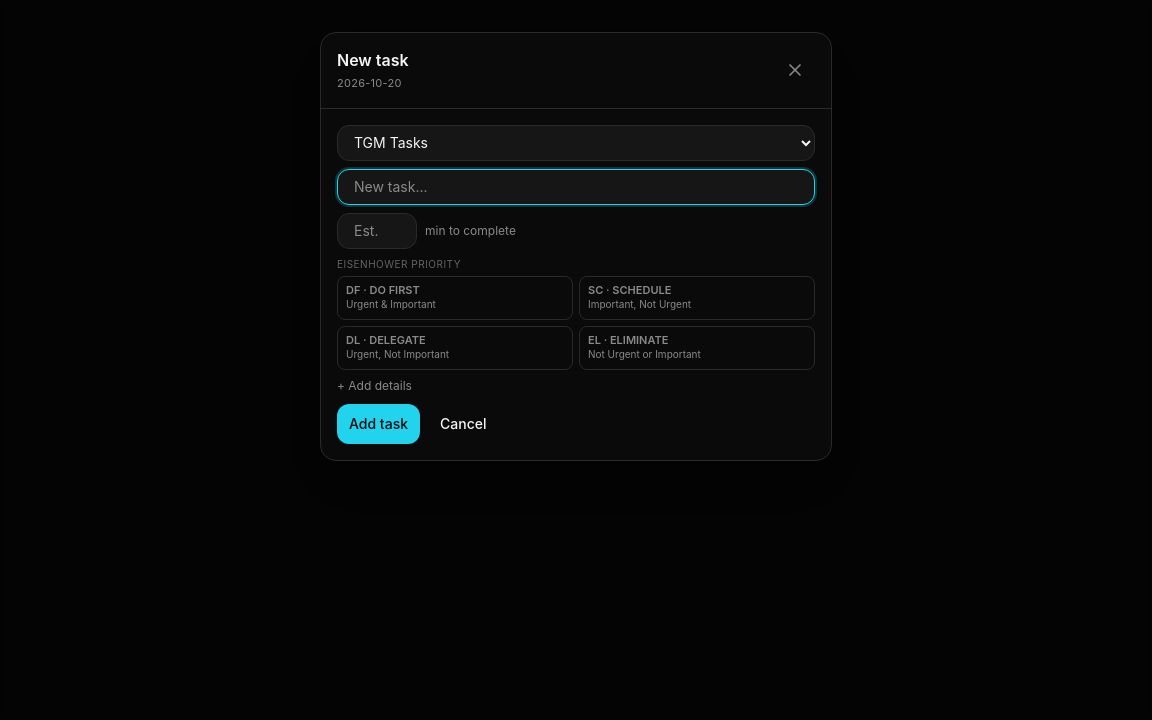
Scenario: NewTaskDialog › writes the task and confirms without closing
The width and height of the screenshot is (1152, 720).
Step 1. Type "Call the glazier" into the field named "Task title" → [576, 186], box [337,168,815,204]
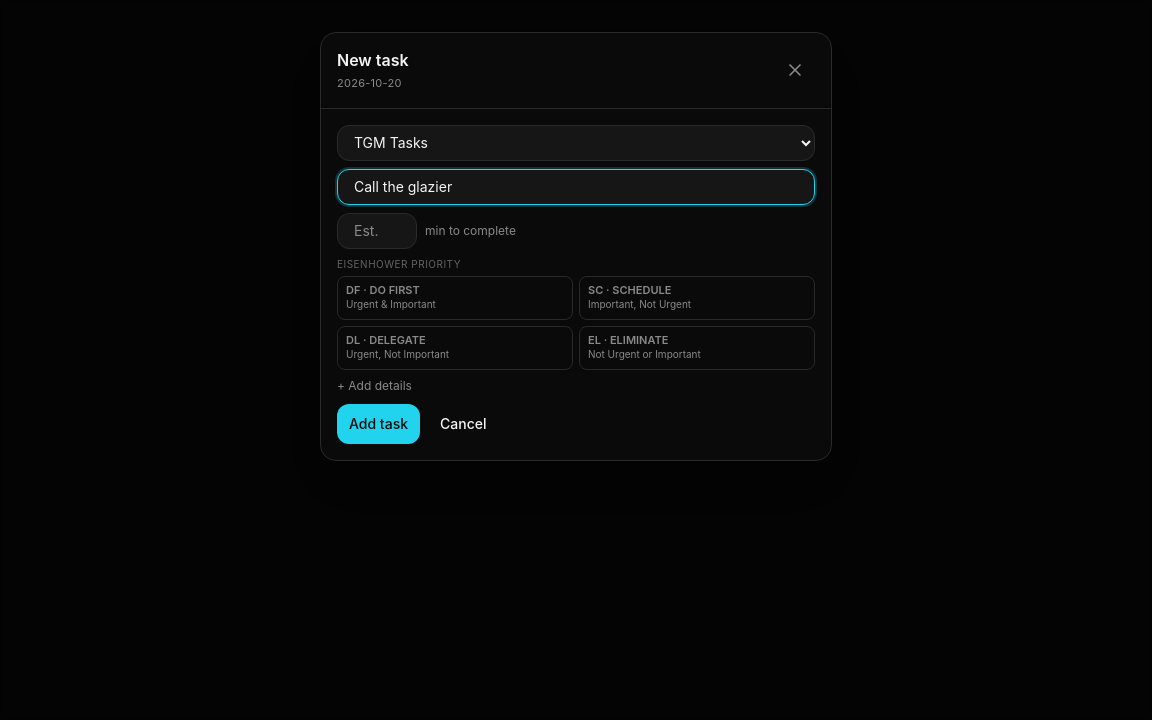
Step 2. Type "15" into the number field named "Time to complete estimate" → [377, 230], box [337,212,417,248]
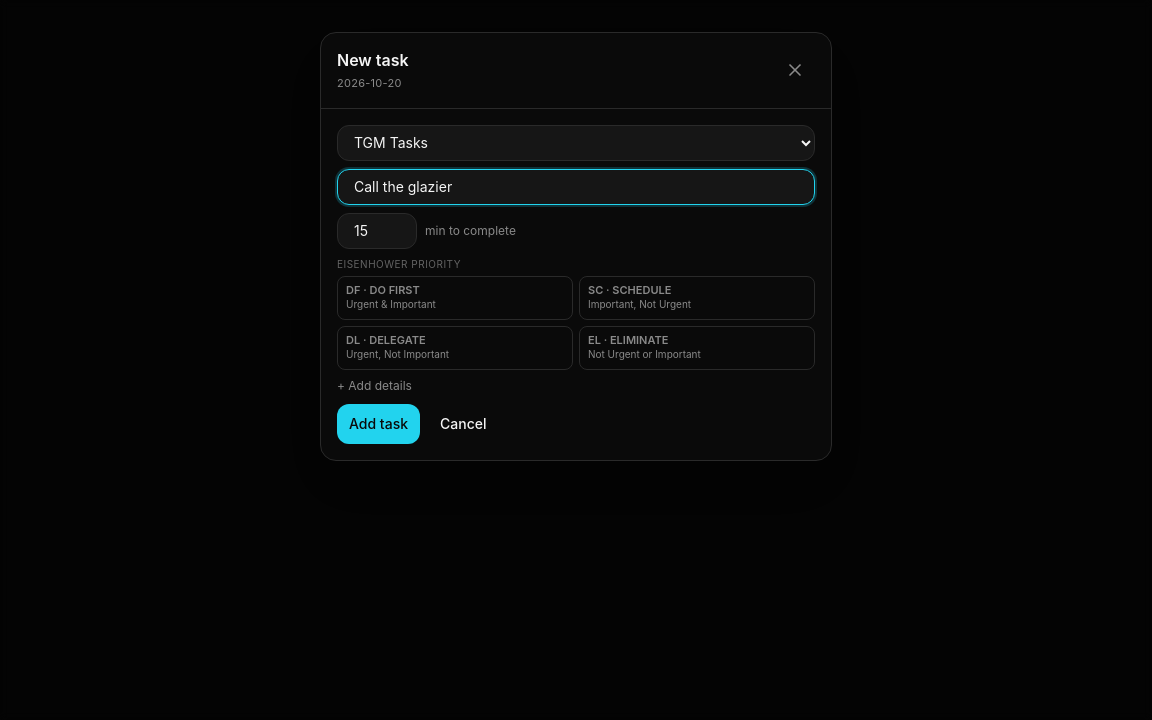
Step 3. Click the button "DF · Do First Urgent & Important" → [455, 298], box [337,276,573,320]
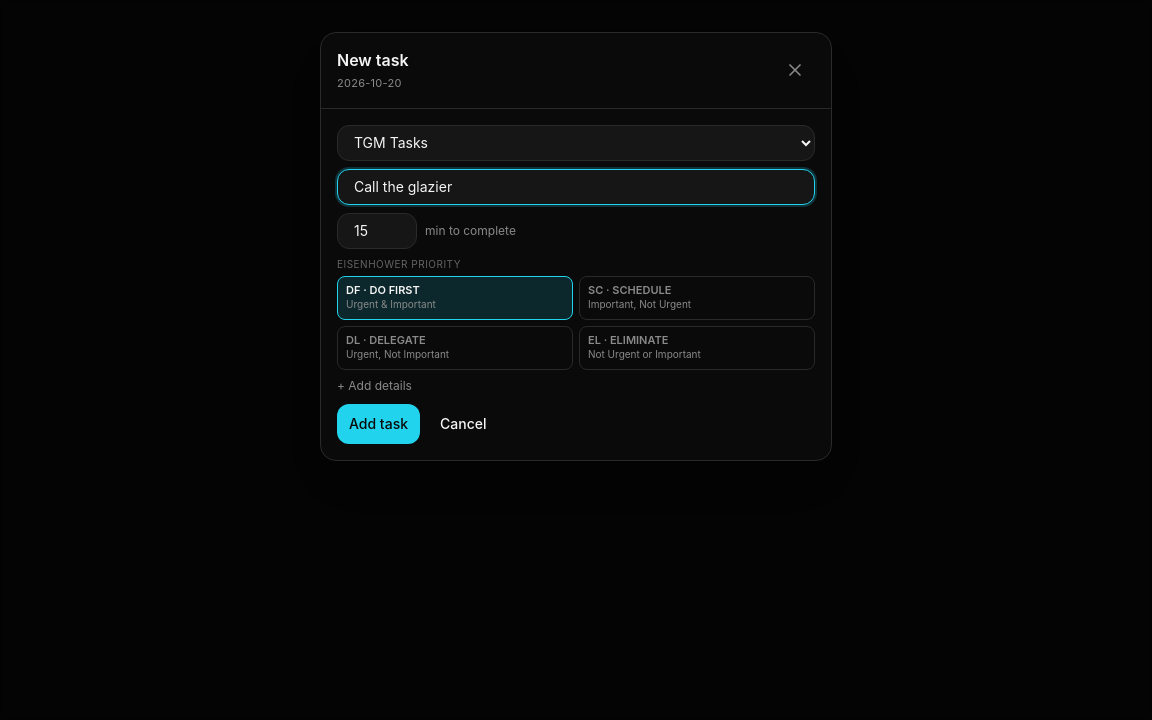
Step 4. Click the button "Add task" → [378, 424], box [337,404,420,444]
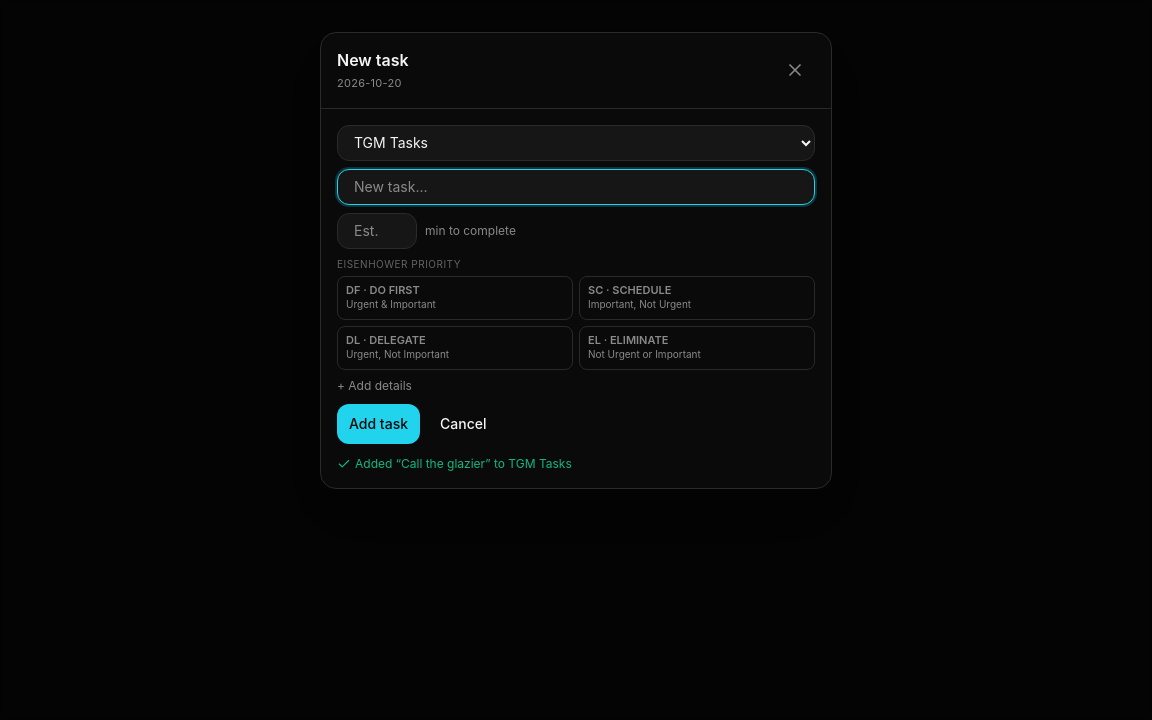
Now the text "Added “Call the glazier” to TGM Tasks" is shown, box [355,456,572,472]
Now the field named "Task title" is empty, box [337,168,815,204]
